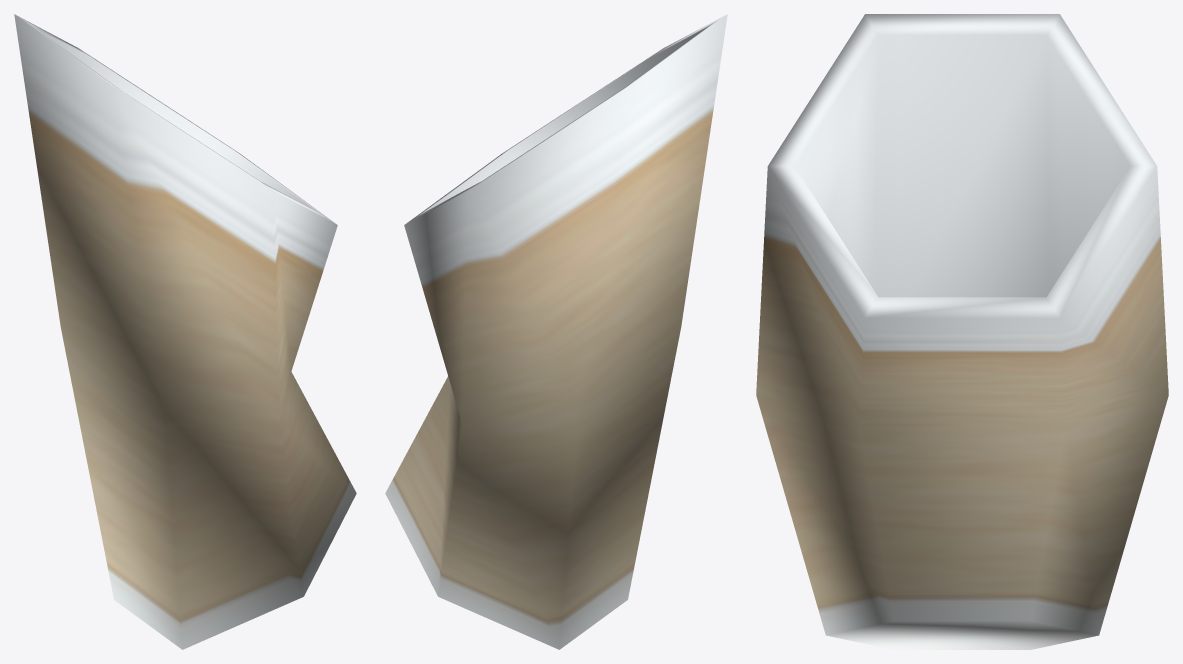
File: coffee_cup_crushed.glb
3 views of the same model, side by side, from view 1: azimuth 30°, elevation 25°; view 2: azimuth 150°, elevation 25°; view 3: azimuth 270°, elevation 25° (orthographic).
Visible parts, largest first — view 1: Coffee_Cup_Crushed; view 2: Coffee_Cup_Crushed; view 3: Coffee_Cup_Crushed.
Part boxes in pixels (left/top/right/bottom): Coffee_Cup_Crushed: left=14, top=14, right=356, bottom=649; Coffee_Cup_Crushed: left=385, top=14, right=727, bottom=649; Coffee_Cup_Crushed: left=756, top=14, right=1168, bottom=649.
Bounding box in the file's own units: 0.2324 × 0.5102 × 0.321.
1 material, 1 textured.
